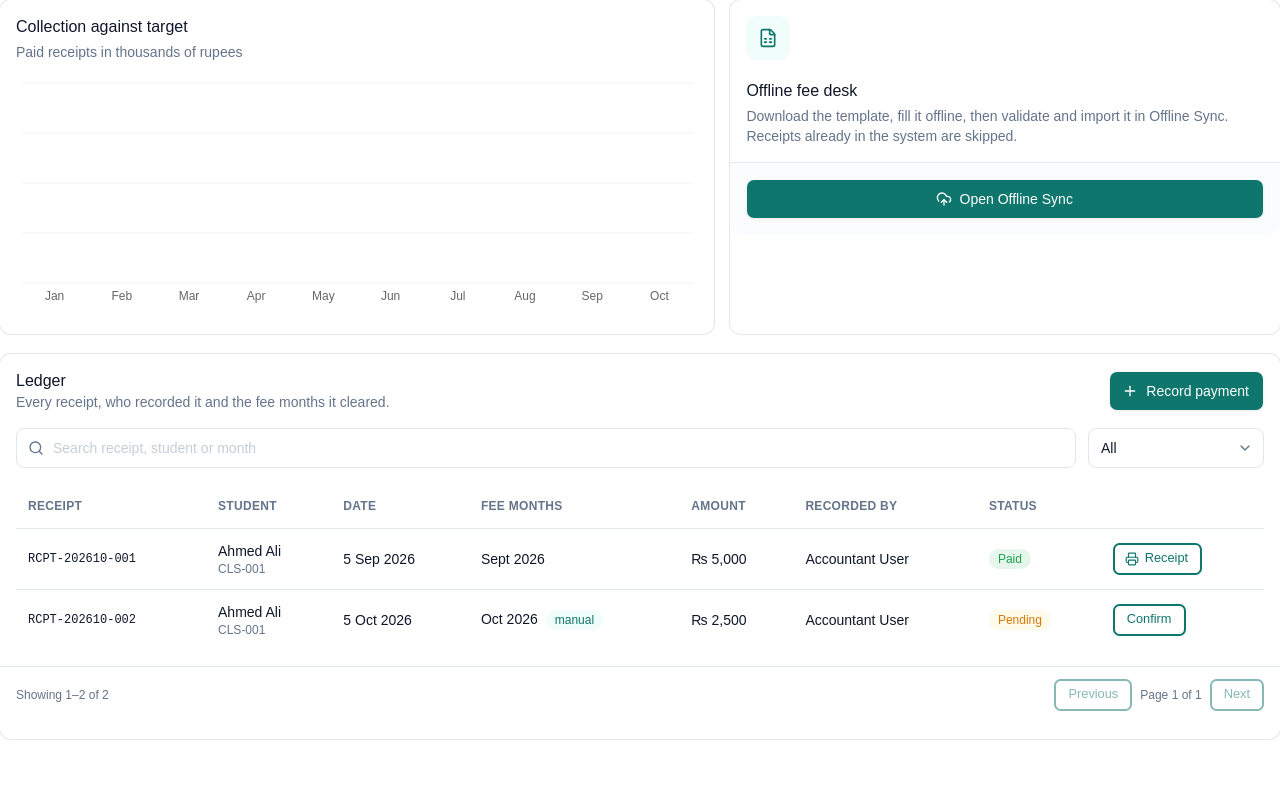
Scenario: Fees (Fee Ledger Tab) › allows clicking a student to open their monthly fee ledger modal with balances
Check: the text "RCPT-202610-001" is shown, box x1=16 y1=528 x2=206 y2=589
Step 1. Click the button "Ahmed Ali" next to "RCPT-202610-001" → (250, 550), box x1=218 y1=540 x2=281 y2=560
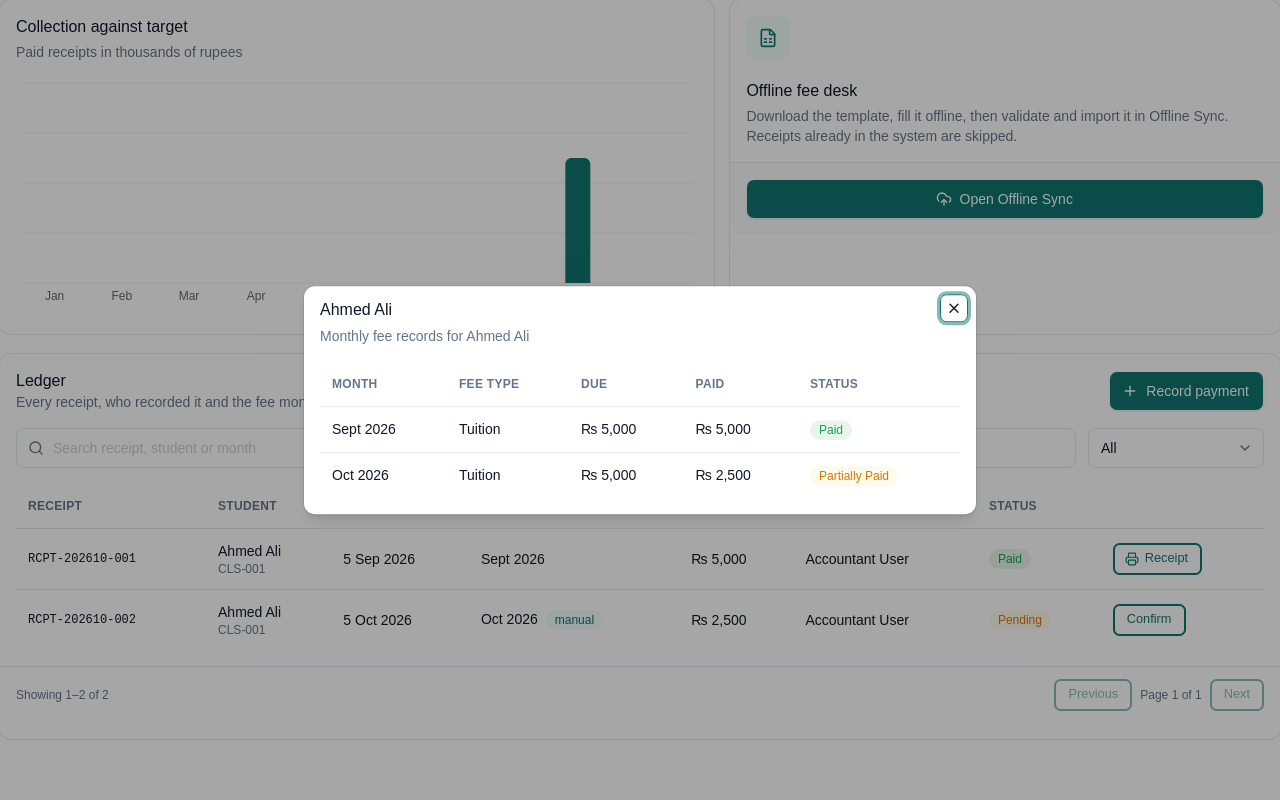
Check: the heading "Ahmed Ali" is shown, box x1=320 y1=301 x2=392 y2=318
Check: the text "Monthly fee records for Ahmed Ali" is shown, box x1=320 y1=328 x2=529 y2=344
Check: the text "Tuition" is shown 2 times, box x1=447 y1=406 x2=569 y2=452; x1=447 y1=452 x2=569 y2=498
